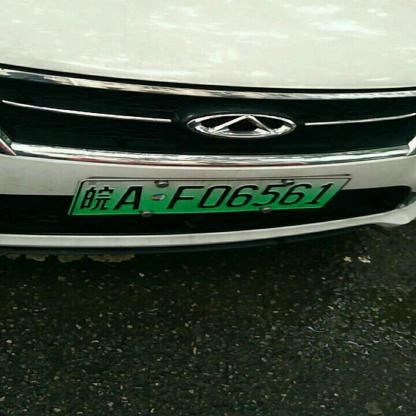lp: (73, 178, 348, 214)
